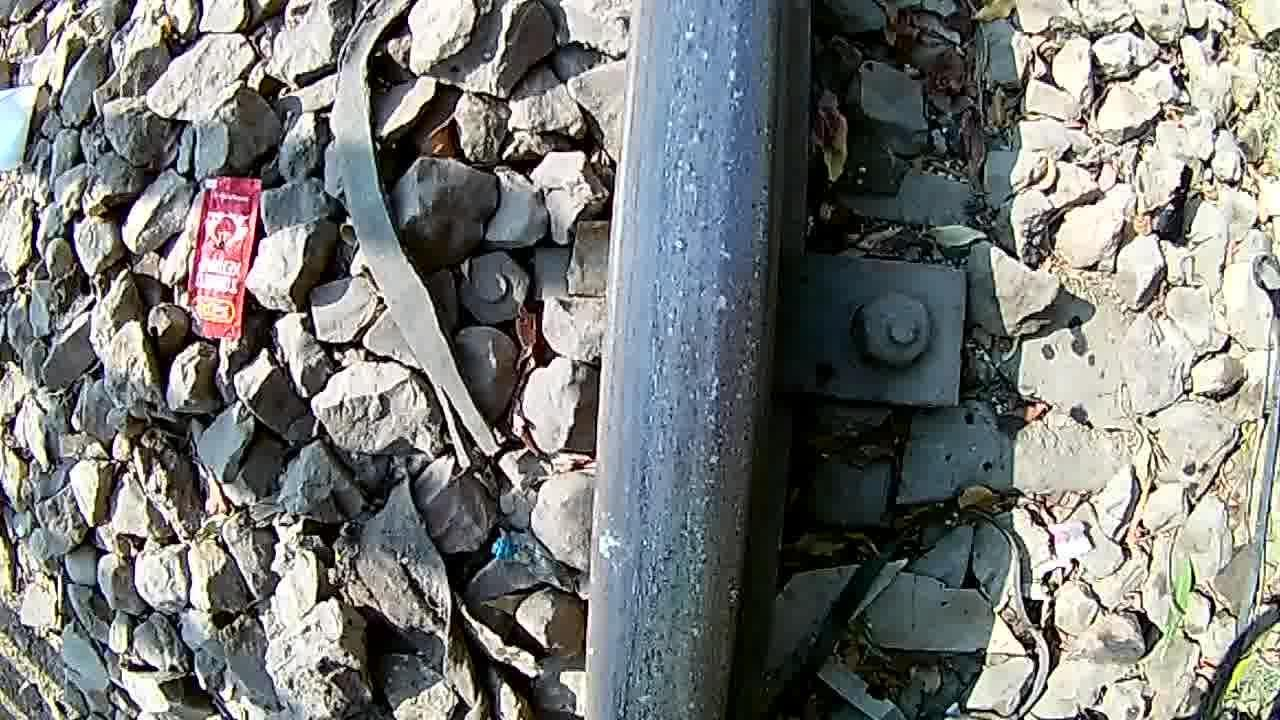crack: (602, 0, 793, 720)
